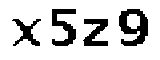5: (47, 6, 78, 49)
9: (115, 6, 150, 52)
x: (11, 17, 41, 47)
z: (84, 17, 109, 51)
